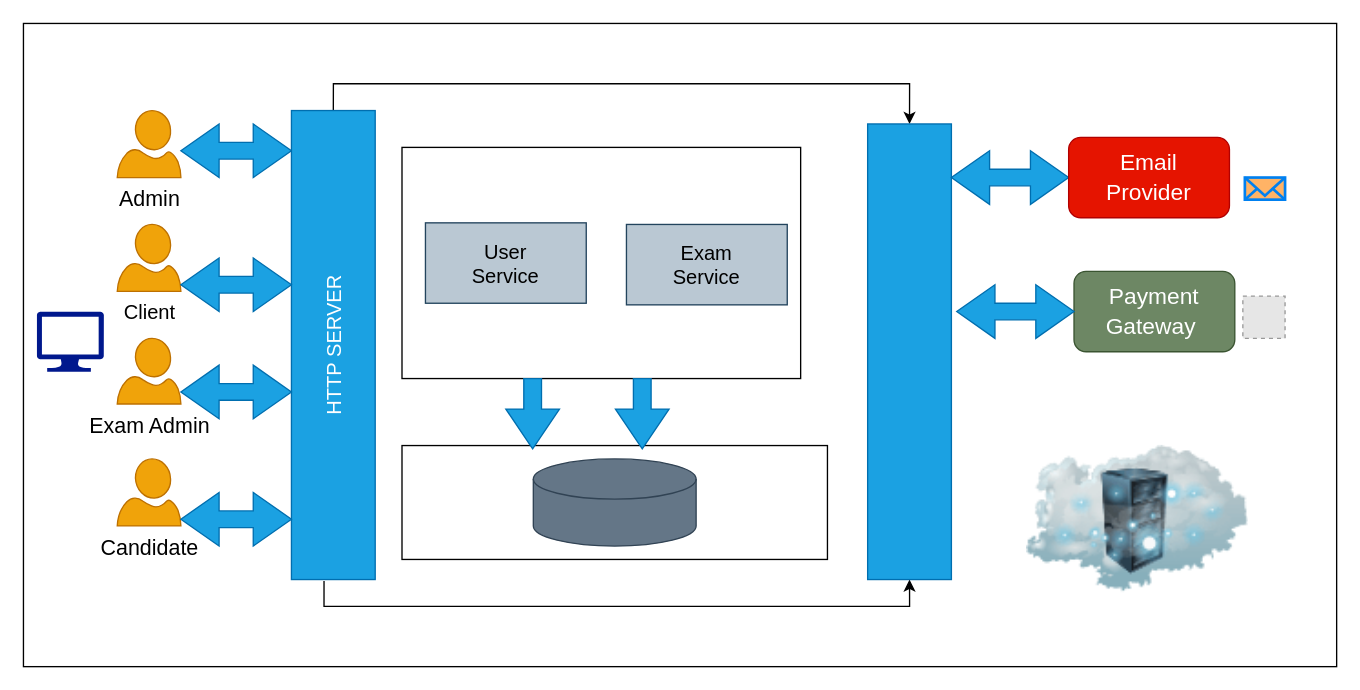
Image size: 1360x690. Some labels were removed from this diagram. Grey dashed boxes stand in for pictures. Here are the shapes that lost their labels. From the top down, the centre of each, then its label:
At point (908, 351): "Integration API".
At point (614, 502): "SQL Database".
At point (1137, 518): "Cloud Infra".
